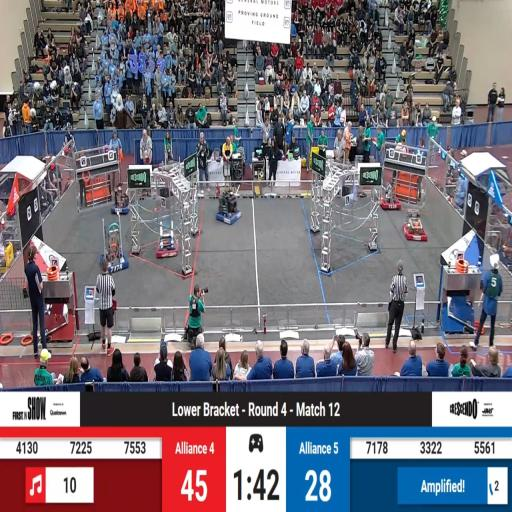robot: (100, 221, 128, 273), (156, 226, 180, 259), (216, 192, 240, 225), (402, 213, 428, 241), (110, 186, 132, 214), (380, 185, 402, 211)
